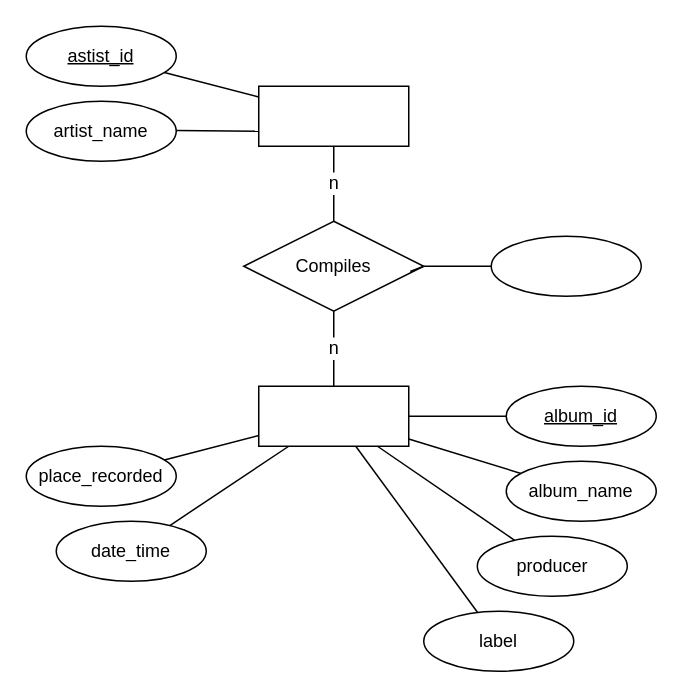
The diagram is 683 pixels wide and 698 high, and some of its shapes have lost their labels. Each missing label, with the box of its shape:
Album: (257, 385, 409, 446)
Arttist: (257, 85, 409, 146)
role: (490, 235, 641, 296)
